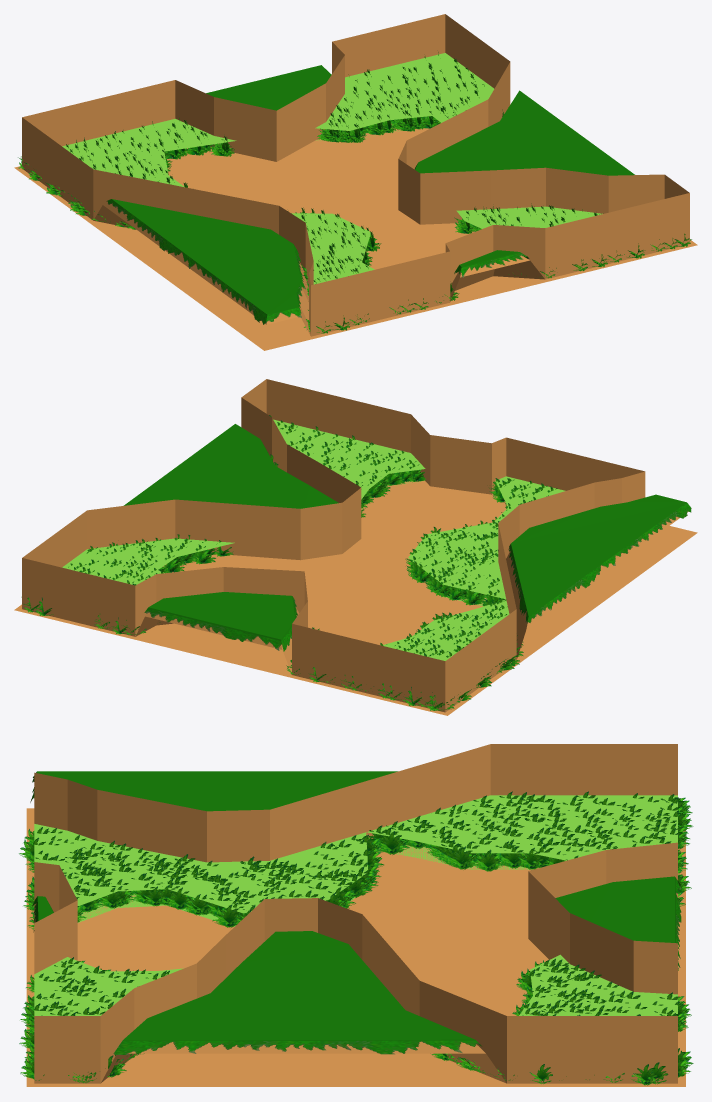
Rendered from field1 c1.dae.
The picture shows the model from 3 angles, top to bottom: view 1: azimuth 30°, elevation 25°; view 2: azimuth 150°, elevation 25°; view 3: azimuth 270°, elevation 25°; orthographic projection. The views are drawn at different scales.
Visible parts, largest first — view 1: colis, grasstop, Plane.001, Plane; view 2: colis, grasstop, Plane.001, Plane; view 3: colis, grasstop, Plane.001, Plane.
Boxes of the visible parts, left/top/right/bottom form: colis: left=14, top=14, right=697, bottom=350; grasstop: left=106, top=65, right=634, bottom=324; Plane.001: left=62, top=53, right=602, bottom=284; Plane: left=93, top=129, right=544, bottom=335; colis: left=14, top=379, right=697, bottom=715; grasstop: left=123, top=424, right=691, bottom=651; Plane.001: left=62, top=419, right=565, bottom=660; Plane: left=135, top=481, right=688, bottom=671; colis: left=26, top=744, right=685, bottom=1086; grasstop: left=30, top=771, right=681, bottom=1054; Plane.001: left=34, top=795, right=677, bottom=1015; Plane: left=34, top=845, right=677, bottom=1083.
Bounding box in the file's own units: 8.49 × 8.5 × 0.9418.
Materials: 4 (2 with a texture image).
